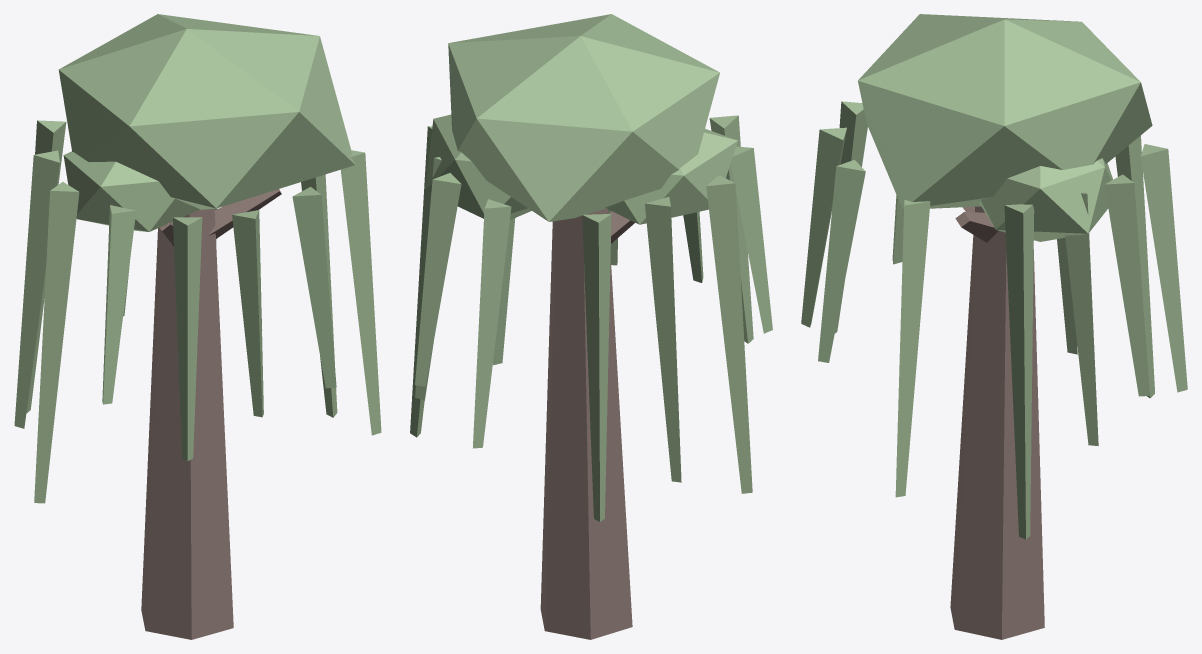
The model's file is arv_salgueiro_3_sem_textura.glb.
The picture shows the model from 3 angles, left to right: view 1: azimuth 30°, elevation 25°; view 2: azimuth 150°, elevation 25°; view 3: azimuth 270°, elevation 25°; orthographic projection. The views are drawn at different scales.
Parts seen in each view (by area): view 1: arv_salgueiro_3; view 2: arv_salgueiro_3; view 3: arv_salgueiro_3.
Part boxes in pixels (x1=…): arv_salgueiro_3: x1=14, y1=14, x2=381, y2=639; arv_salgueiro_3: x1=410, y1=14, x2=772, y2=639; arv_salgueiro_3: x1=801, y1=14, x2=1187, y2=639.
Size of the model in its own units: 0.8771 by 1.52 by 0.888.
